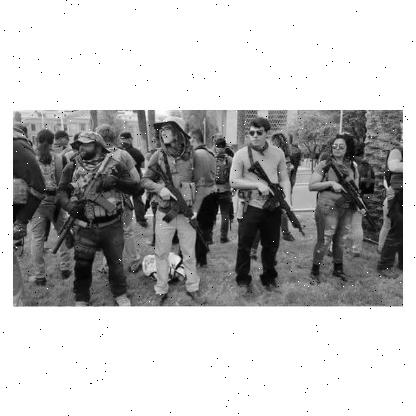gun: (49, 152, 121, 252), (144, 159, 208, 247), (248, 162, 306, 238), (320, 160, 376, 228)
